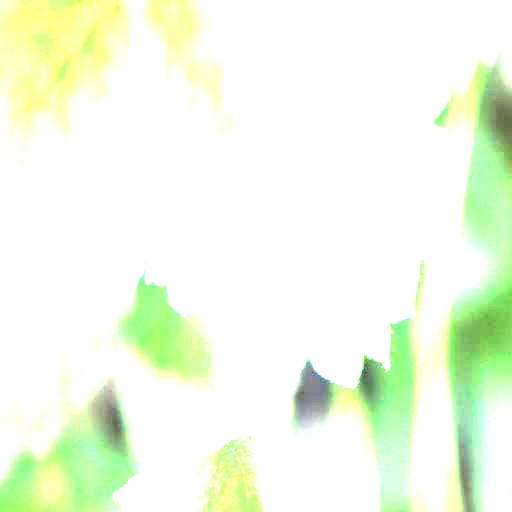Powdery Mildew Leaf: (121, 0, 461, 390), (112, 393, 275, 511)
